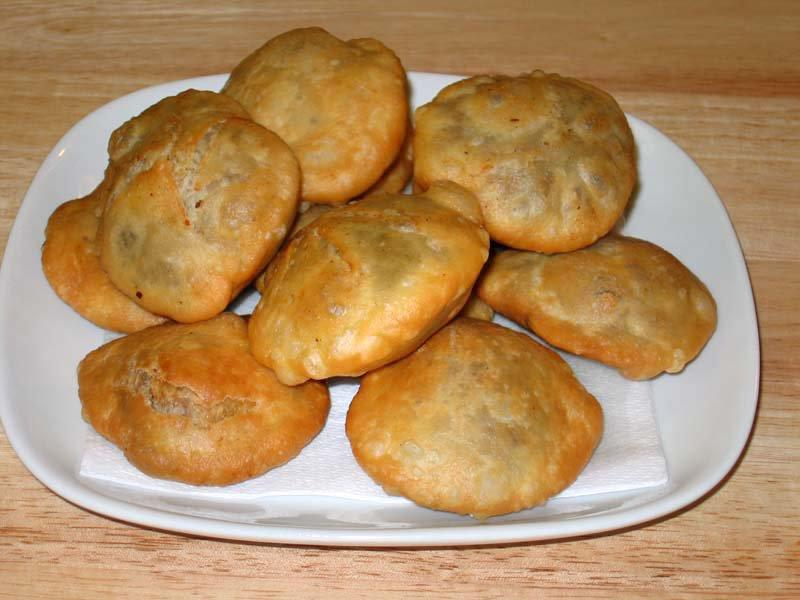kachori: (59, 54, 800, 594)
